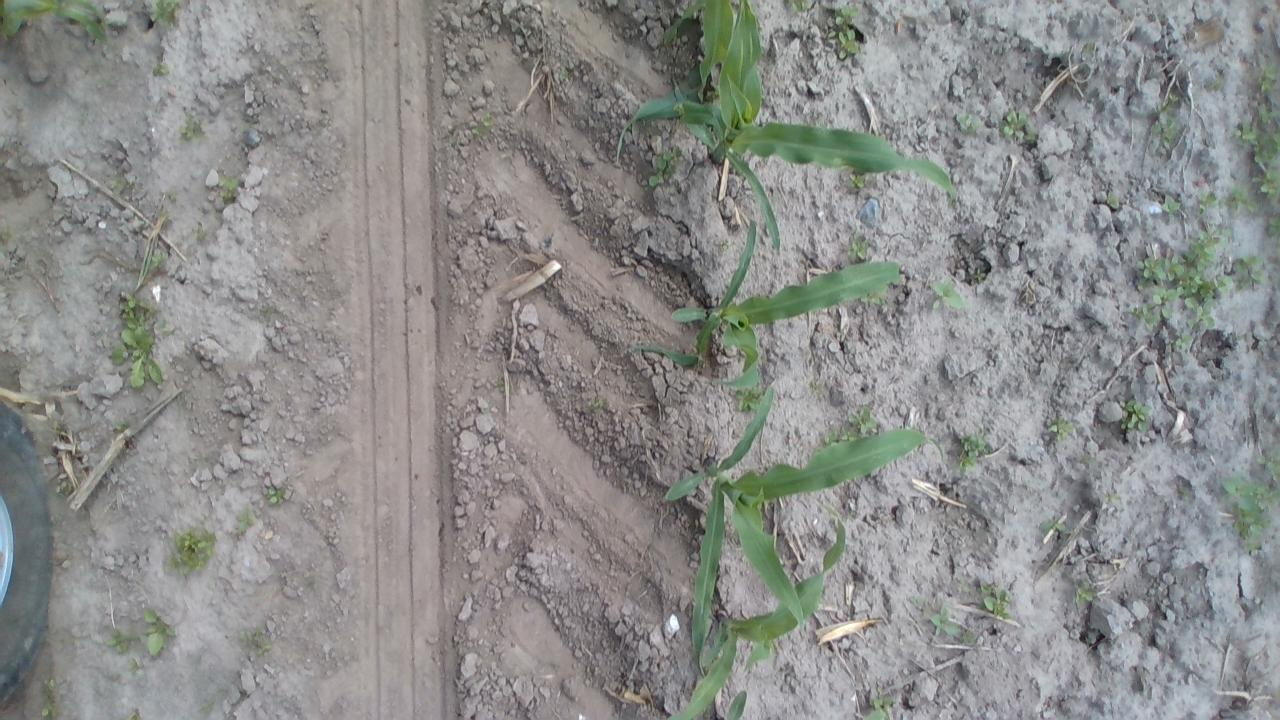Maize: (662, 385, 938, 676), (615, 61, 959, 252), (623, 219, 902, 390), (658, 521, 847, 720), (660, 0, 781, 103), (0, 0, 111, 48)
Weeds: (1138, 232, 1263, 352), (1233, 51, 1280, 239), (1219, 442, 1279, 547), (112, 292, 165, 390), (108, 610, 177, 661), (167, 528, 221, 581), (1145, 92, 1187, 158), (820, 400, 879, 445), (820, 7, 864, 58), (645, 136, 681, 190), (1002, 104, 1041, 148), (978, 580, 1014, 620), (139, 0, 185, 30), (930, 608, 965, 640), (237, 627, 274, 656), (1120, 396, 1148, 434), (955, 432, 986, 466), (864, 690, 896, 720), (40, 678, 62, 720), (180, 110, 208, 143), (932, 279, 963, 307), (1070, 577, 1096, 606), (846, 235, 874, 261), (233, 506, 254, 540), (952, 108, 978, 133), (1048, 415, 1072, 442), (732, 388, 761, 410), (1040, 513, 1064, 538), (1156, 192, 1178, 216), (218, 175, 242, 197), (260, 484, 280, 502), (848, 170, 866, 188), (588, 398, 604, 412)
